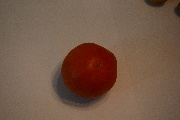tomato: (60, 43, 118, 99)
